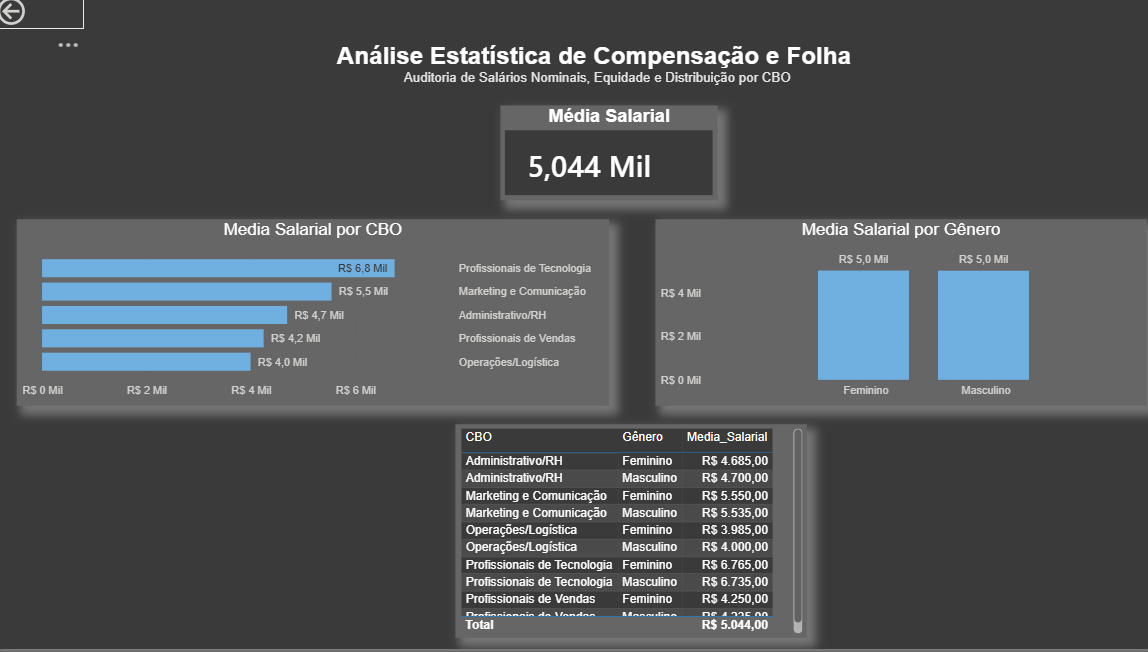

Layout of this report page (visuals, bound fields, positions):
{"tool":"powerbi","page":{"name":"Compensação ","canvas":[1280,720],"ordinal":3},"visuals":[{"type":"textbox","box":[196.2,49.4,934.5,91.9],"z":0},{"type":"cardVisual","title":"Média Salarial","fields":{"Data":["Medidas.Media_Salarial"]},"box":[557.1,123.5,238.8,104.3],"z":1},{"type":"barChart","title":"Media Salarial por CBO","fields":{"Category":["base_dados_clt.CBO_Grupo"],"Y":["Medidas.Media_Salarial"]},"box":[26.1,248.4,650.4,204.5],"z":2},{"type":"columnChart","title":"Media Salarial por Gênero","fields":{"Category":["base_dados_clt.Gênero"],"Y":["Medidas.Media_Salarial"]},"box":[727.3,248.4,539.3,204.5],"z":3},{"type":"tableEx","fields":{"Values":["base_dados_clt.CBO_Grupo","base_dados_clt.Gênero","Medidas.Media_Salarial"]},"box":[507.7,473.4,385.6,234.6],"z":4},{"type":"actionButton","box":[0,0,100,40],"z":5}]}

Visuals, with their boxes on the page's 1280x720 design canvas (x1, y1, x2, y2). These are canvas units, not pixel positions in the 1148x652 screenshot, which may show the page scaled, cropped or inside an application window:
textbox: 196,49,1131,141
"Média Salarial" cardVisual: 557,124,796,228
"Media Salarial por CBO" barChart: 26,248,676,453
"Media Salarial por Gênero" columnChart: 727,248,1267,453
tableEx - base_dados_clt.CBO_Grupo x base_dados_clt.Gênero: 508,473,893,708
actionButton: 0,0,100,40
